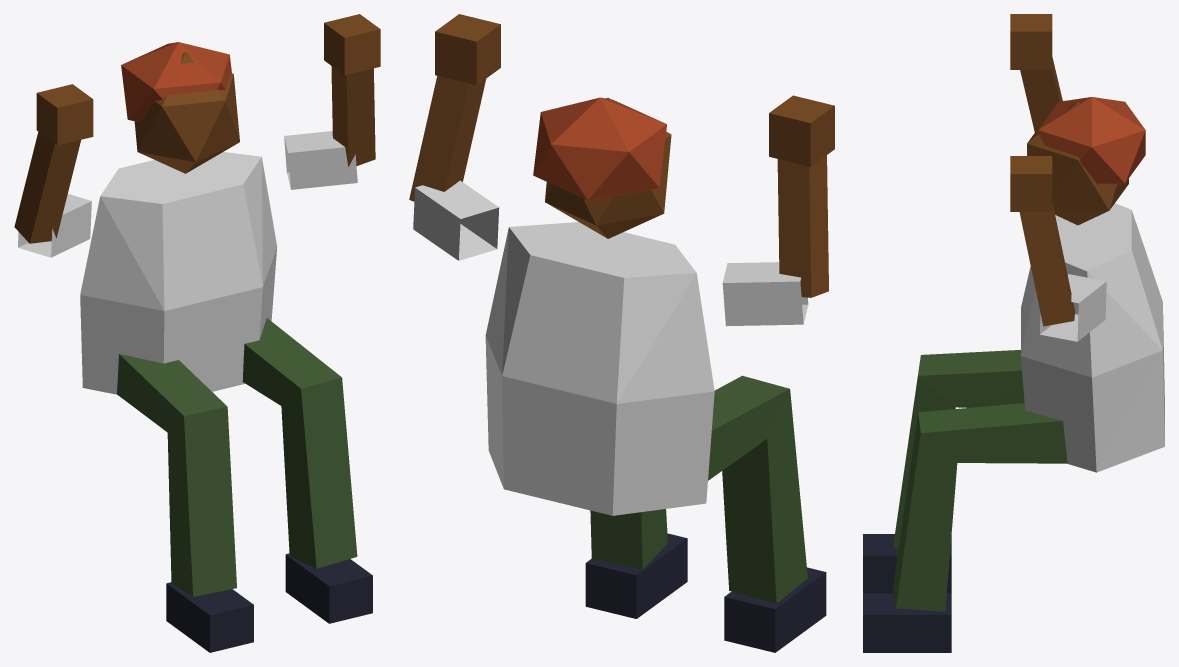
The model's file is fan-4.glb.
3 renders of one model, left to right at view 1: azimuth 30°, elevation 25°; view 2: azimuth 150°, elevation 25°; view 3: azimuth 270°, elevation 25°, orthographic. The views are drawn at different scales.
Parts seen in each view (by area): view 1: fan-4; view 2: fan-4; view 3: fan-4.
Part boxes in pixels (bbox=[...]): fan-4: bbox=[14, 14, 380, 652]; fan-4: bbox=[409, 14, 834, 652]; fan-4: bbox=[863, 14, 1164, 652].
Size of the model in its own units: 0.8672 by 1.22 by 0.6462.
